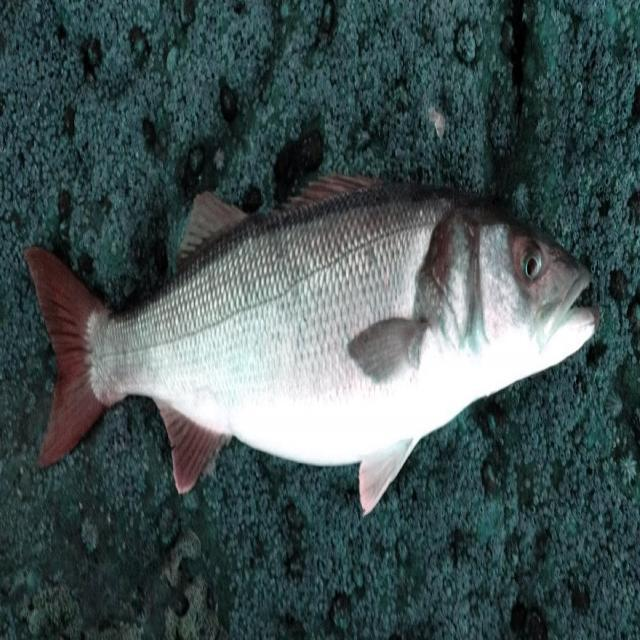Healthy Fish: (14, 170, 634, 518)
